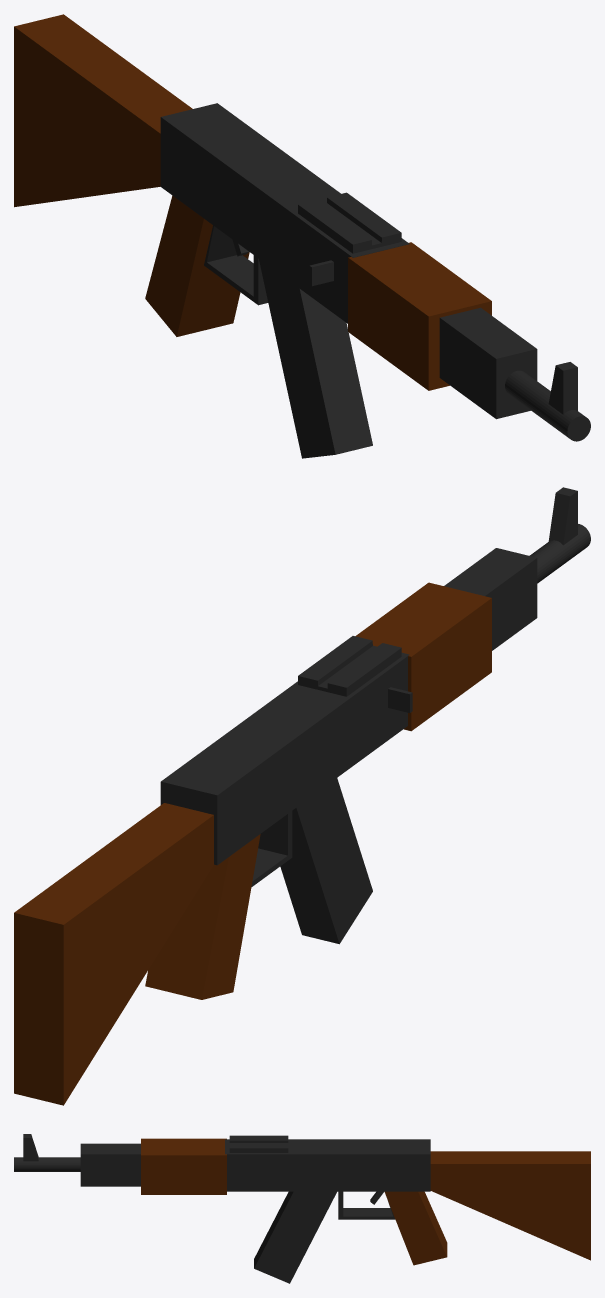
Rendered from AEG_AKM.fbx.
3 renders of one model, top to bottom at view 1: azimuth 30°, elevation 25°; view 2: azimuth 150°, elevation 25°; view 3: azimuth 270°, elevation 25°, orthographic. The views are drawn at different scales.
Visible parts, largest first — view 1: Rifle, Magazine; view 2: Rifle, Magazine; view 3: Rifle, Magazine.
Part boxes in pixels (box(x1,y1,x2,y2)): Rifle: box(14, 14, 590, 441); Magazine: box(259, 259, 372, 458); Rifle: box(14, 487, 590, 1105); Magazine: box(280, 778, 372, 944); Rifle: box(14, 1134, 590, 1265); Magazine: box(254, 1191, 336, 1283).
Size of the model in its own units: 289 by 903 by 3303.
